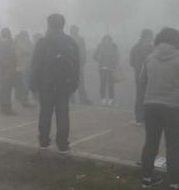person: (32, 12, 78, 152), (142, 26, 179, 188), (126, 28, 157, 124), (67, 23, 92, 106), (12, 27, 37, 108), (94, 34, 122, 106), (1, 27, 19, 117)
